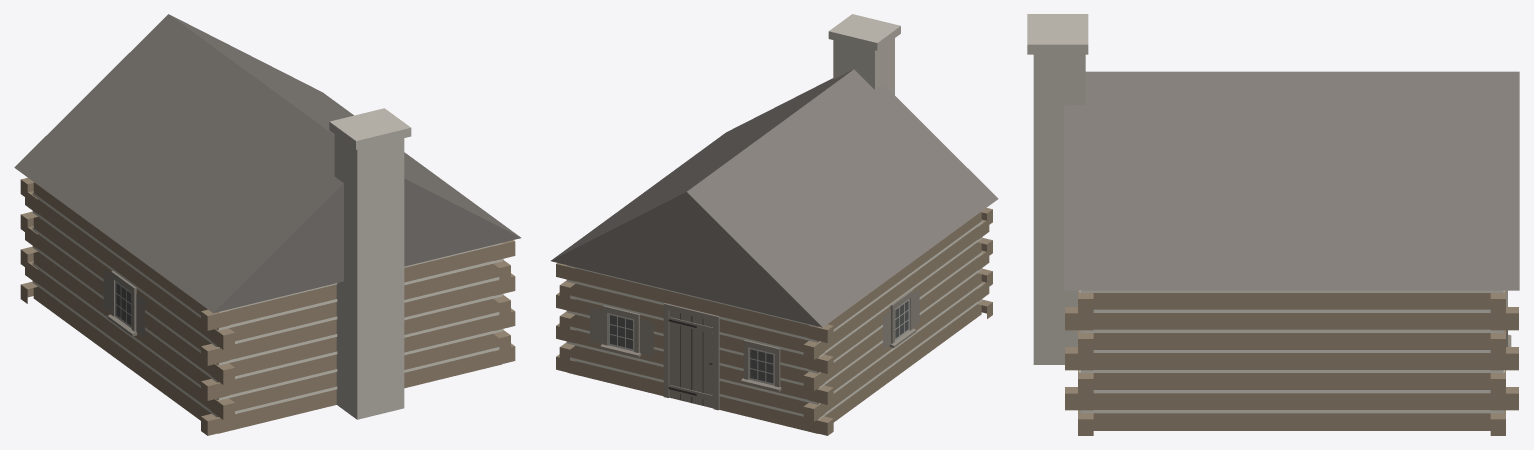
Rendered from recon_1835_north_d1_054__inferred_1835.glb.
3 views of the same model, side by side, from view 1: azimuth 30°, elevation 25°; view 2: azimuth 150°, elevation 25°; view 3: azimuth 270°, elevation 25° (orthographic). The views are drawn at different scales.
Visible parts, largest first — view 1: recon_1835_north_d1_054__inferred_1835; view 2: recon_1835_north_d1_054__inferred_1835; view 3: recon_1835_north_d1_054__inferred_1835.
Boxes of the visible parts, x1,y1,x2,y2 form: recon_1835_north_d1_054__inferred_1835: [14, 14, 520, 435]; recon_1835_north_d1_054__inferred_1835: [551, 14, 998, 435]; recon_1835_north_d1_054__inferred_1835: [1027, 14, 1519, 435].
Bounding box in the file's own units: 6.27 × 5.47 × 7.58.
